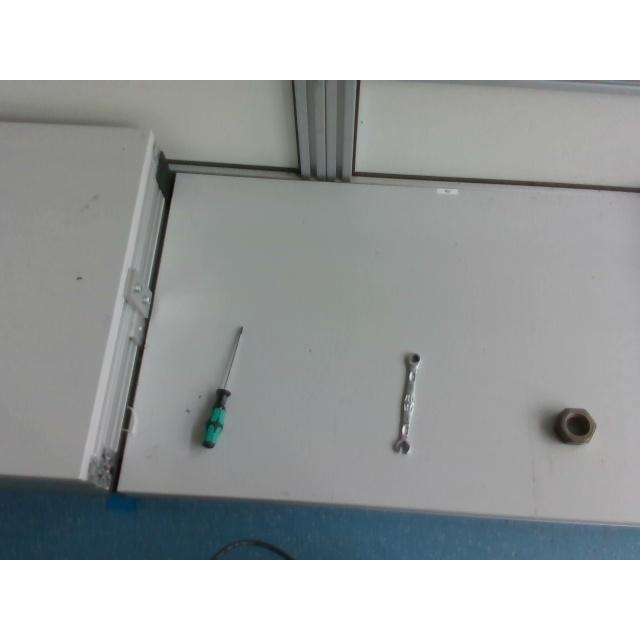M30: (554, 406, 598, 446)
Screwdriver: (203, 325, 245, 449)
Wrench: (392, 353, 421, 455)
